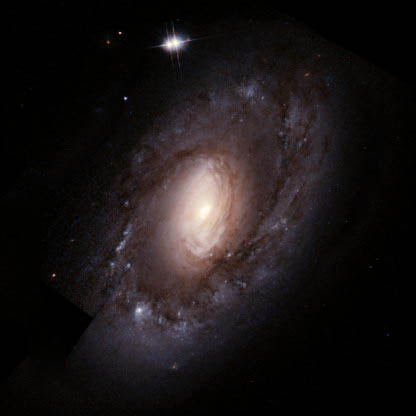NGC 4102: (53, 24, 357, 375)
